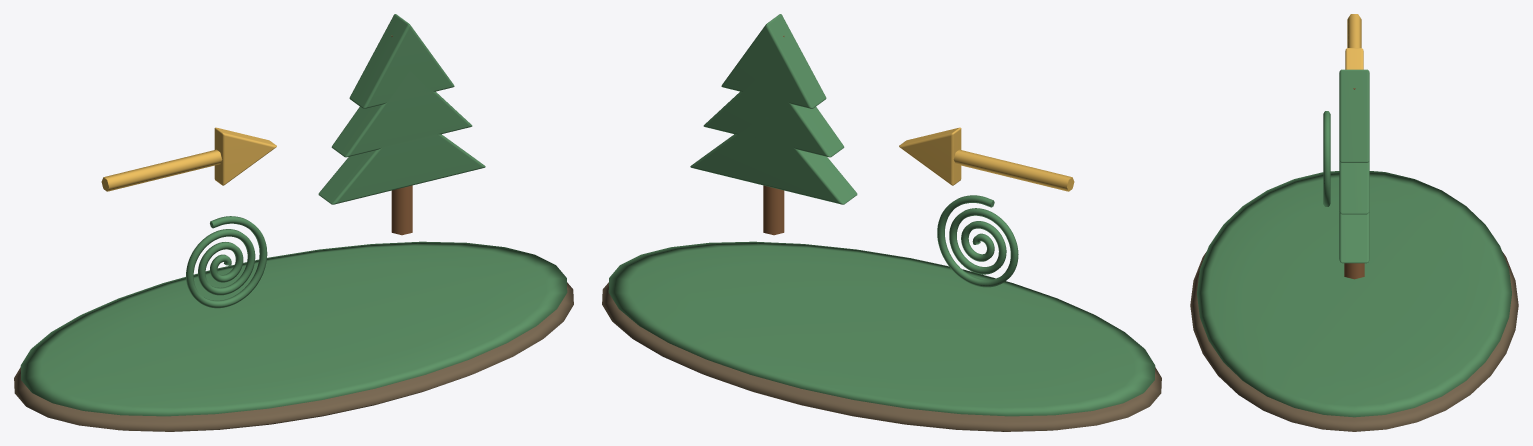
File: complete-third-released-pine-rest.glb
3 views of the same model, side by side, from view 1: azimuth 30°, elevation 25°; view 2: azimuth 150°, elevation 25°; view 3: azimuth 270°, elevation 25° (orthographic). The views are drawn at different scales.
Visible parts, largest first — view 1: complete-third-released-pine-rest_surface_01, complete-third-released-pine-rest_surface_00, complete-third-released-pine-rest_surface_02, complete-third-released-pine-rest_surface_03; view 2: complete-third-released-pine-rest_surface_01, complete-third-released-pine-rest_surface_00, complete-third-released-pine-rest_surface_02, complete-third-released-pine-rest_surface_03; view 3: complete-third-released-pine-rest_surface_01, complete-third-released-pine-rest_surface_00, complete-third-released-pine-rest_surface_02, complete-third-released-pine-rest_surface_03.
Part boxes in pixels (x1=…): complete-third-released-pine-rest_surface_01: x1=20, y1=14, x2=567, y2=416; complete-third-released-pine-rest_surface_00: x1=14, y1=282, x2=573, y2=431; complete-third-released-pine-rest_surface_02: x1=101, y1=127, x2=276, y2=191; complete-third-released-pine-rest_surface_03: x1=391, y1=35, x2=412, y2=235; complete-third-released-pine-rest_surface_01: x1=608, y1=14, x2=1155, y2=416; complete-third-released-pine-rest_surface_00: x1=602, y1=282, x2=1161, y2=431; complete-third-released-pine-rest_surface_02: x1=899, y1=127, x2=1074, y2=191; complete-third-released-pine-rest_surface_03: x1=763, y1=35, x2=784, y2=235; complete-third-released-pine-rest_surface_01: x1=1197, y1=69, x2=1511, y2=417; complete-third-released-pine-rest_surface_00: x1=1190, y1=251, x2=1518, y2=431; complete-third-released-pine-rest_surface_02: x1=1345, y1=14, x2=1363, y2=69; complete-third-released-pine-rest_surface_03: x1=1344, y1=88, x2=1364, y2=279.
Bounding box in the file's own units: 4.56 × 2.54 × 2.5.
